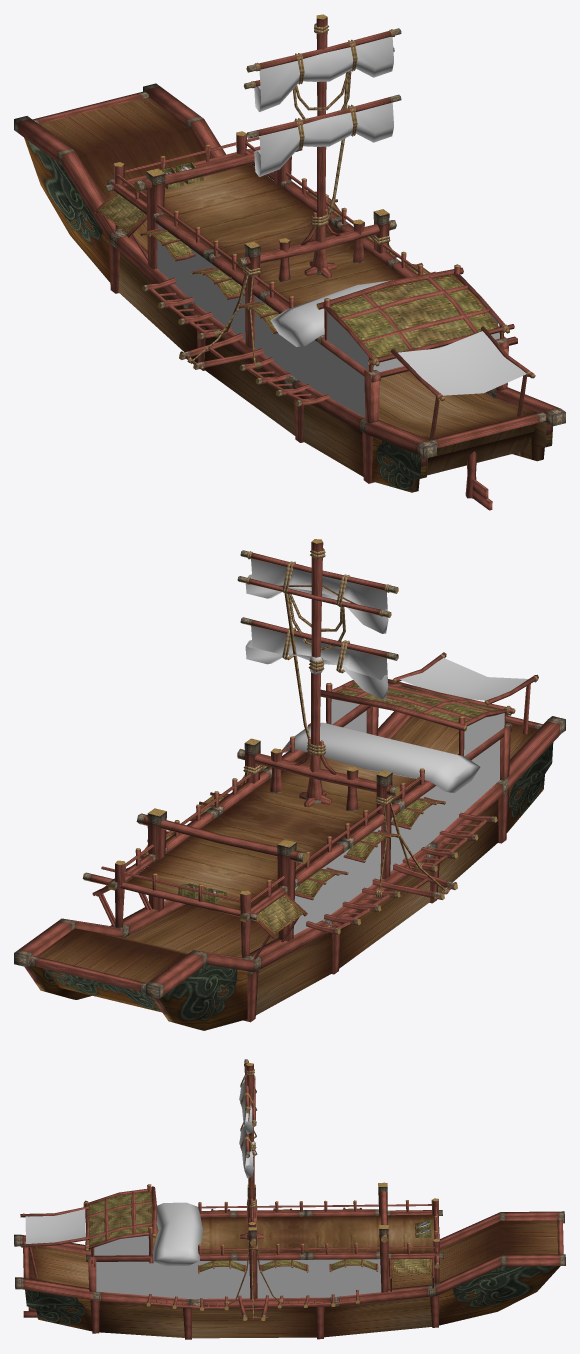
File: environment_common_yuchuan_001_a.FBX
3 views of the same model, one above another, from view 1: azimuth 30°, elevation 25°; view 2: azimuth 150°, elevation 25°; view 3: azimuth 270°, elevation 25° (orthographic). The views are drawn at different scales.
Parts seen in each view (by area): view 1: environment_common_yuchuan_001_a04, environment_common_yuchuan_001_a05, environment_common_yuchuan_001_a01, environment_common_yuchuan_001_a02, environment_common_yuchuan_001_a03; view 2: environment_common_yuchuan_001_a04, environment_common_yuchuan_001_a05, environment_common_yuchuan_001_a02, environment_common_yuchuan_001_a01, environment_common_yuchuan_001_a03; view 3: environment_common_yuchuan_001_a04, environment_common_yuchuan_001_a02, environment_common_yuchuan_001_a05, environment_common_yuchuan_001_a01, environment_common_yuchuan_001_a03.
Boxes of the visible parts, x1,y1,x2,y2 form: environment_common_yuchuan_001_a04: (14, 14, 565, 510); environment_common_yuchuan_001_a05: (254, 36, 526, 395); environment_common_yuchuan_001_a01: (97, 161, 499, 357); environment_common_yuchuan_001_a02: (157, 224, 499, 417); environment_common_yuchuan_001_a03: (187, 23, 530, 400); environment_common_yuchuan_001_a04: (14, 539, 565, 1030); environment_common_yuchuan_001_a05: (245, 559, 528, 792); environment_common_yuchuan_001_a02: (164, 710, 499, 934); environment_common_yuchuan_001_a01: (105, 683, 499, 934); environment_common_yuchuan_001_a03: (243, 548, 538, 897); environment_common_yuchuan_001_a04: (14, 1059, 565, 1339); environment_common_yuchuan_001_a02: (96, 1259, 381, 1298); environment_common_yuchuan_001_a05: (25, 1078, 254, 1266); environment_common_yuchuan_001_a01: (88, 1191, 432, 1274); environment_common_yuchuan_001_a03: (23, 1061, 283, 1319).
Size of the model in its own units: 1753 by 4729 by 2394.
